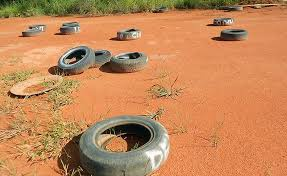tire: (77, 114, 171, 175), (59, 46, 97, 71), (110, 50, 148, 70), (77, 49, 112, 65), (219, 28, 249, 43), (115, 28, 142, 40), (58, 26, 82, 35), (213, 17, 234, 26), (20, 29, 41, 37)
